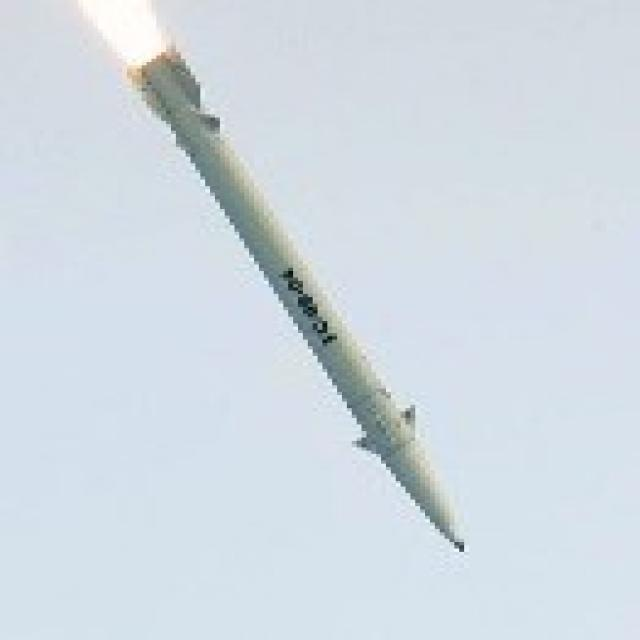missile: (119, 43, 468, 556)
